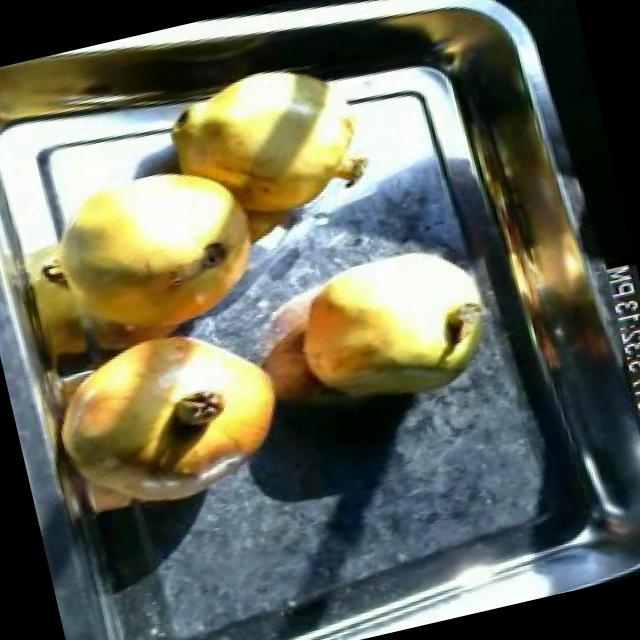fruit: (6, 138, 286, 367), (35, 302, 308, 528), (268, 225, 518, 424), (148, 46, 384, 245)
